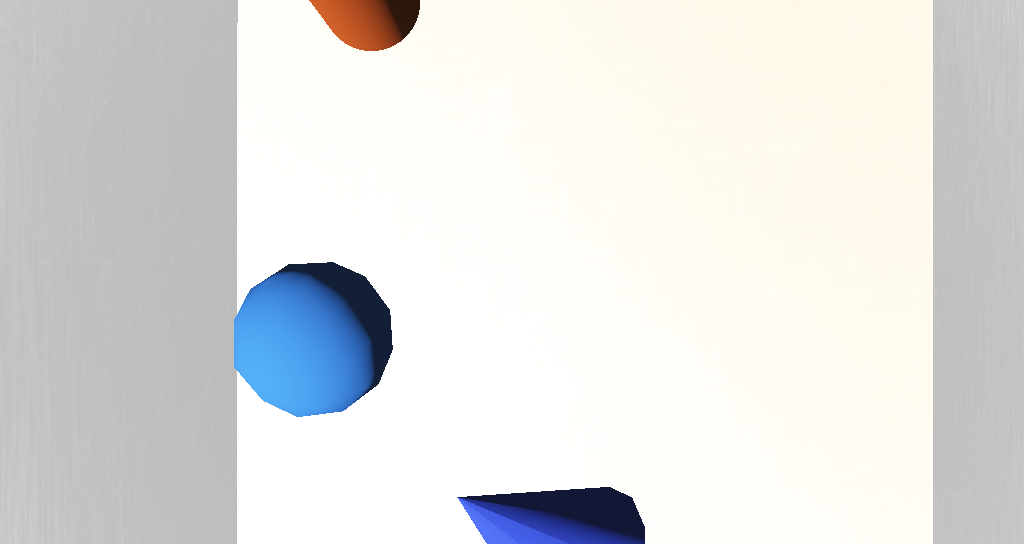cone: (377, 160, 431, 203)
cylinder: (421, 303, 536, 384)
sphere: (367, 262, 428, 310)
